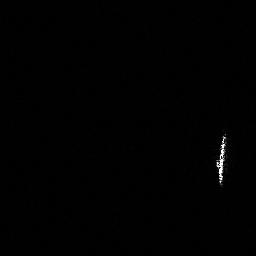ship: (212, 129, 231, 188)
